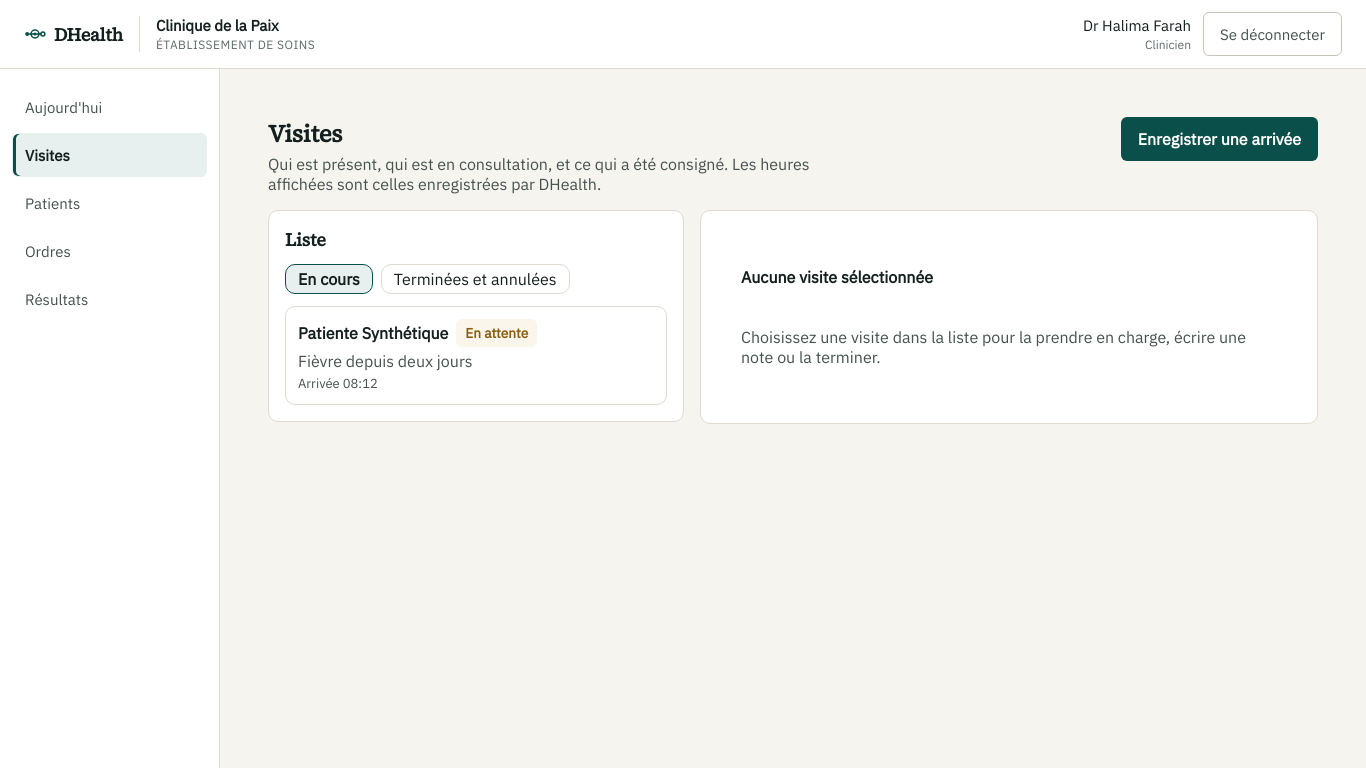
Test: Visites — the lifecycle › names the patient and the consequence before cancelling
The image size is (1366, 768).
Click the button "Patiente Synthétique": [373, 333] box [285,306,667,405]
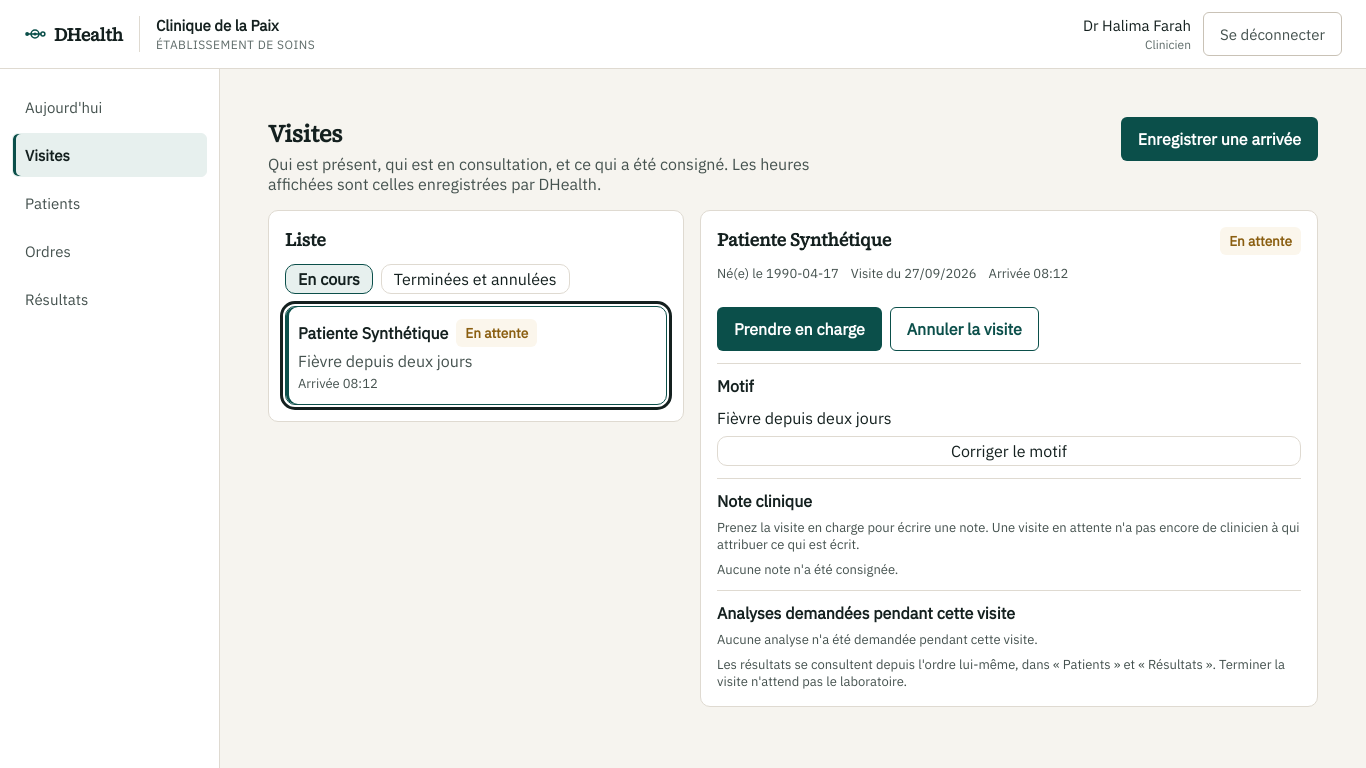
Click the button "Annuler la visite": [964, 329] box [890,307,1039,351]
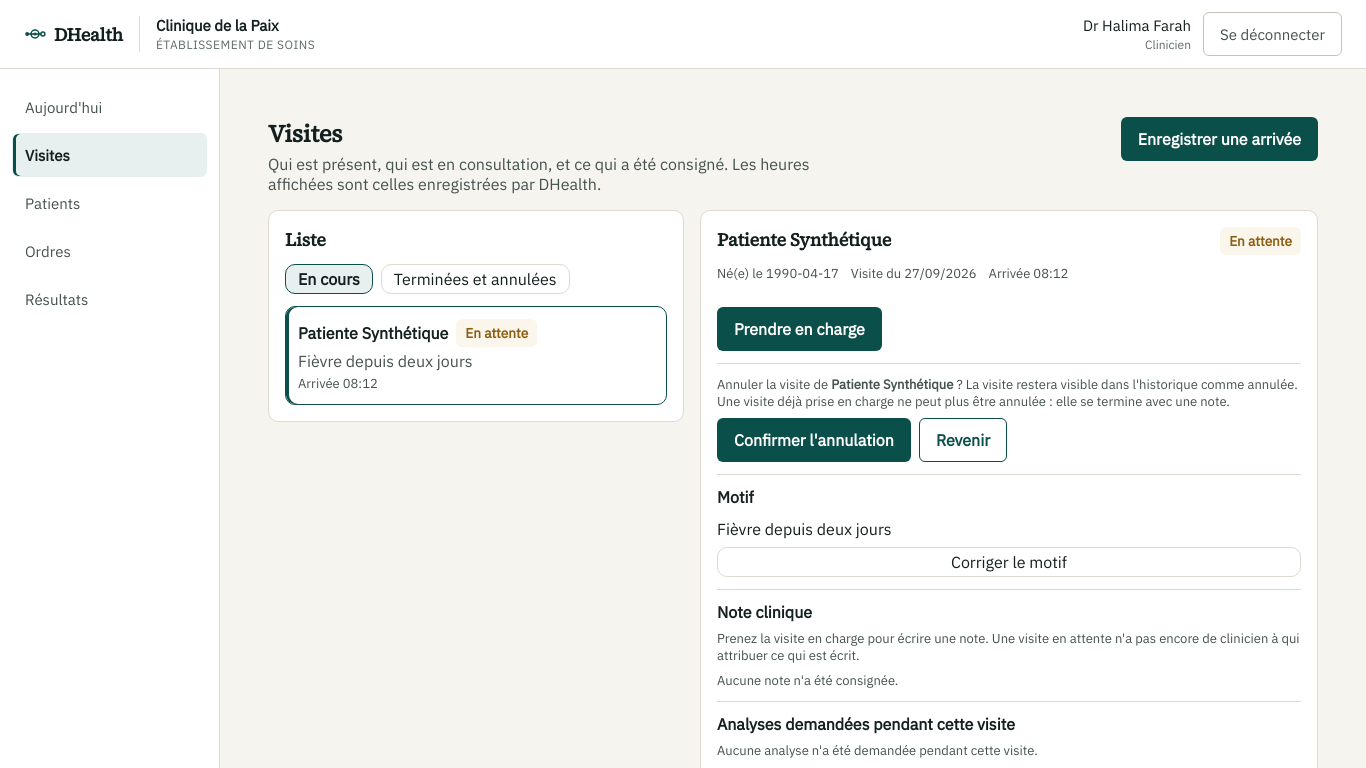
Expected: the text "Annuler la visite de" shows "Patiente Synthétique", [831,376,953,393]
Expected: the text "Annuler la visite de" shows "restera visible dans l'historique", [717,376,1298,410]
Expected: the text "Annuler la visite de" shows "déjà prise en charge ne peut plus être annulée", [717,376,1298,410]
